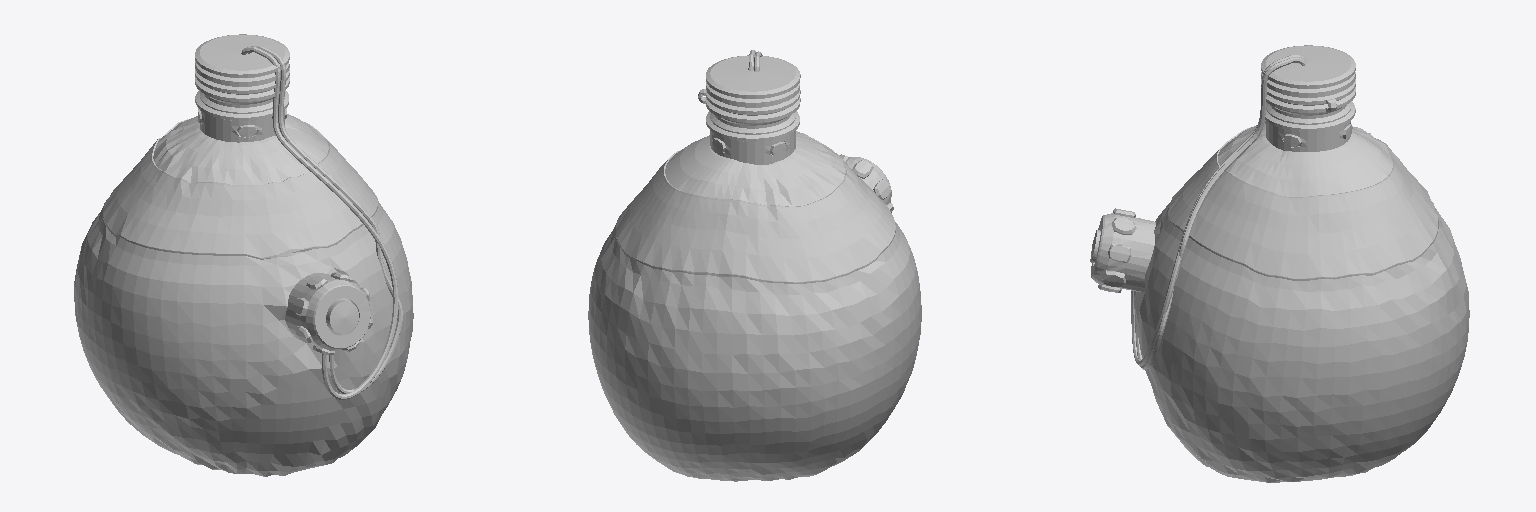
File: Grenade.obj
The picture shows the model from 3 angles: view 1: azimuth 30°, elevation 25°; view 2: azimuth 150°, elevation 25°; view 3: azimuth 270°, elevation 25°; orthographic projection.
Visible parts, largest first — view 1: semtex_Sphere; view 2: semtex_Sphere; view 3: semtex_Sphere.
Part boxes in pixels (bbox=[...]): semtex_Sphere: bbox=[74, 34, 413, 476]; semtex_Sphere: bbox=[588, 50, 921, 481]; semtex_Sphere: bbox=[1090, 45, 1469, 482].
Size of the model in its own units: 1.85 by 2.49 by 2.1.